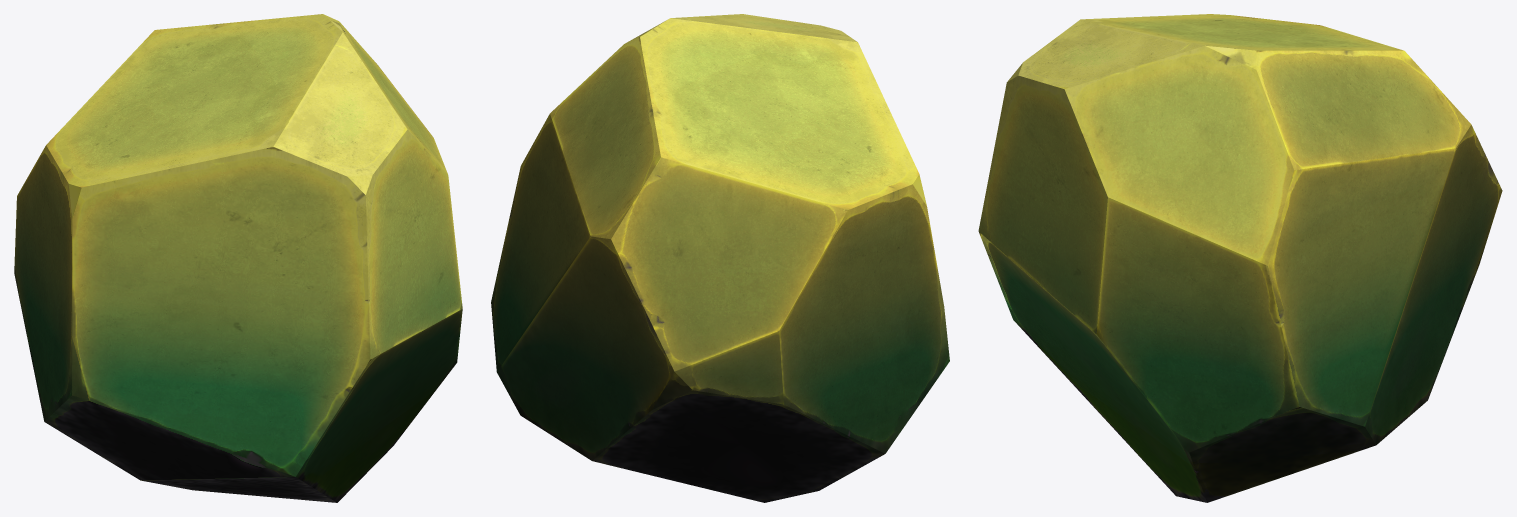
Rendered from S_rocks_03.glb.
The picture shows the model from 3 angles, left to right: view 1: azimuth 30°, elevation 25°; view 2: azimuth 150°, elevation 25°; view 3: azimuth 270°, elevation 25°; orthographic projection. The views are drawn at different scales.
Visible parts, largest first — view 1: S_Rock_03; view 2: S_Rock_03; view 3: S_Rock_03.
Part boxes in pixels (x1,y1,x2,y2): S_Rock_03: [14, 14, 462, 502]; S_Rock_03: [491, 14, 949, 502]; S_Rock_03: [978, 14, 1502, 502].
Bounding box in the file's own units: 1.2 × 1.26 × 1.3.
1 material, 1 textured.
